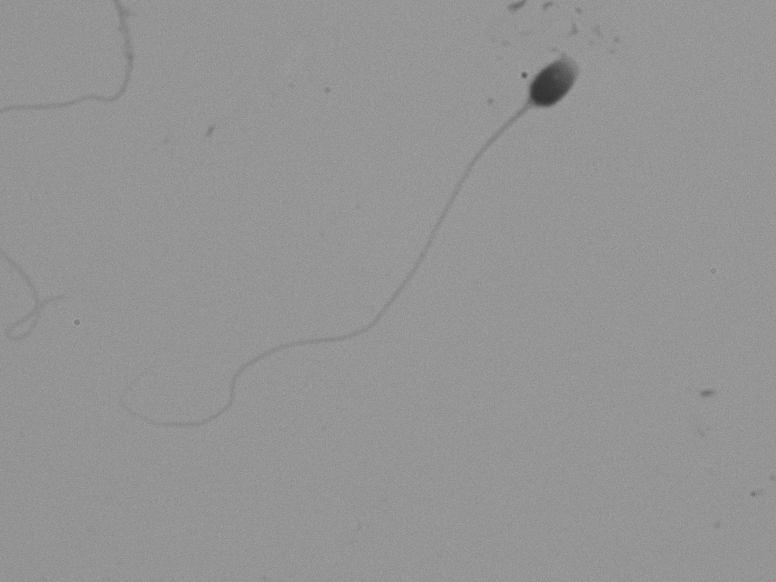Normal: (121, 41, 613, 496)
